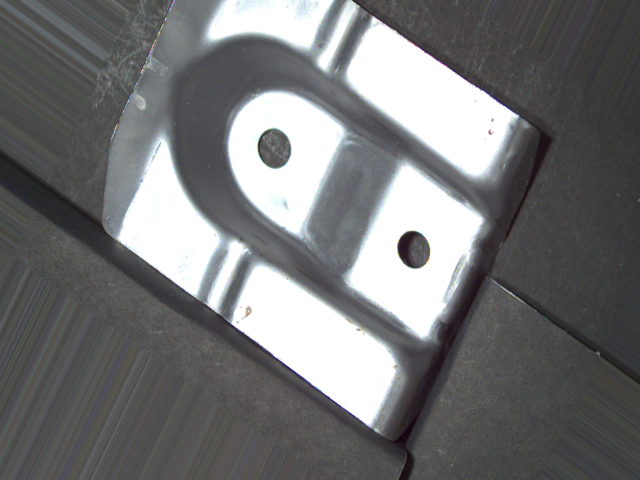defect: (252, 123, 294, 171)
